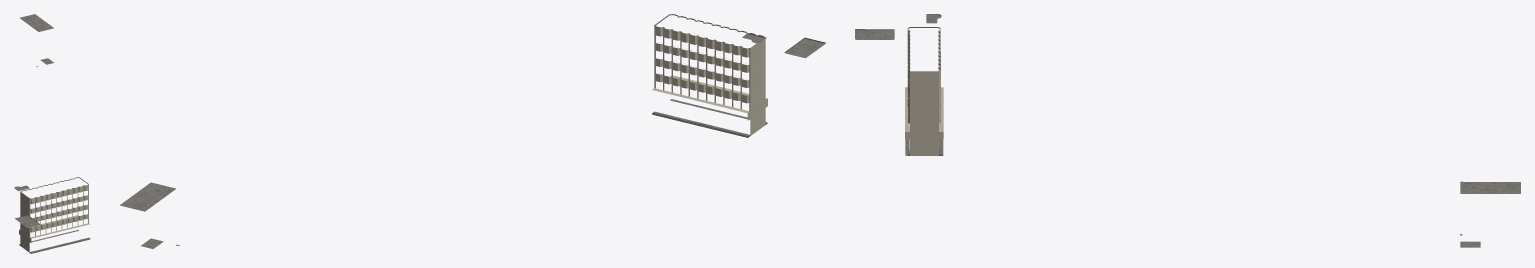
Rendered from NoLod_11.glb.
3 renders of one model, left to right at view 1: azimuth 30°, elevation 25°; view 2: azimuth 150°, elevation 25°; view 3: azimuth 270°, elevation 25°, orthographic. The views are drawn at different scales.
Visible parts, largest first — view 1: rtc; view 2: rtc; view 3: rtc.
Part boxes in pixels (<box>): rtc: <box>14,14,90,253</box>; rtc: <box>119,14,826,248</box>; rtc: <box>855,14,1520,247</box>.
Size of the model in its own units: 213 by 54.49 by 356.
Materials: 2 (2 with a texture image).
